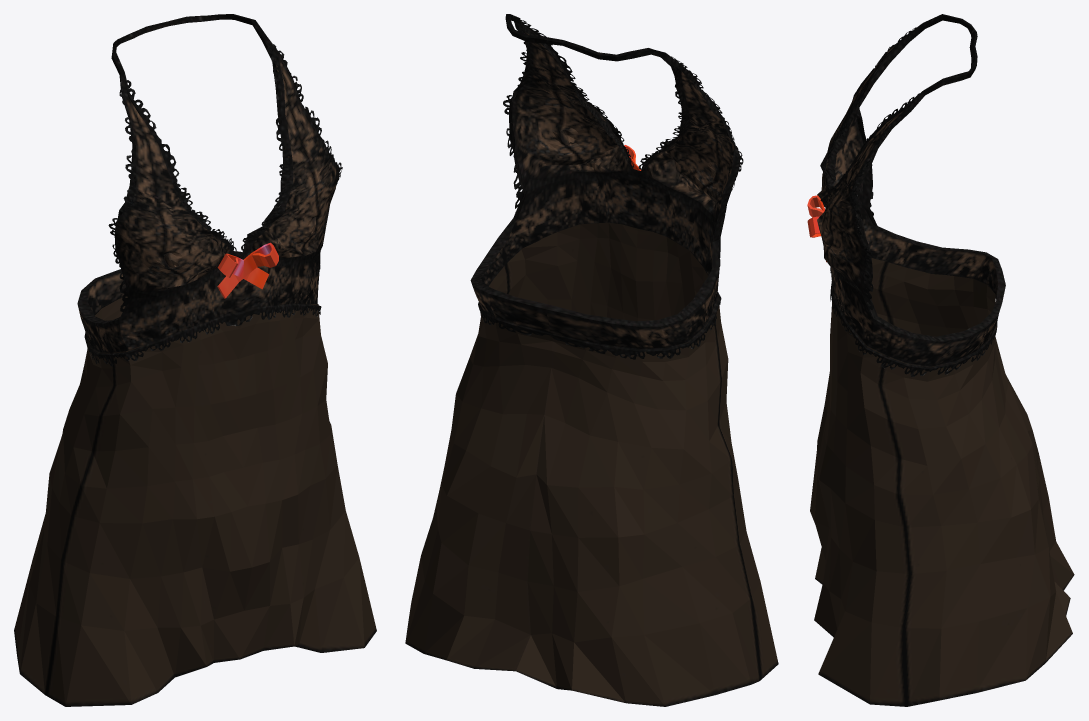
Rendered from mhw_punkduck_babydoll.glb.
3 renders of one model, left to right at view 1: azimuth 30°, elevation 25°; view 2: azimuth 150°, elevation 25°; view 3: azimuth 270°, elevation 25°, orthographic. The views are drawn at different scales.
Parts seen in each view (by area): view 1: mhw_punkduck_babydoll; view 2: mhw_punkduck_babydoll; view 3: mhw_punkduck_babydoll.
Part boxes in pixels (<box>): mhw_punkduck_babydoll: <box>14,14,376,706</box>; mhw_punkduck_babydoll: <box>405,14,778,706</box>; mhw_punkduck_babydoll: <box>807,14,1074,706</box>.
Size of the model in its own units: 0.4716 by 0.8318 by 0.342.
1 material, 1 textured.
